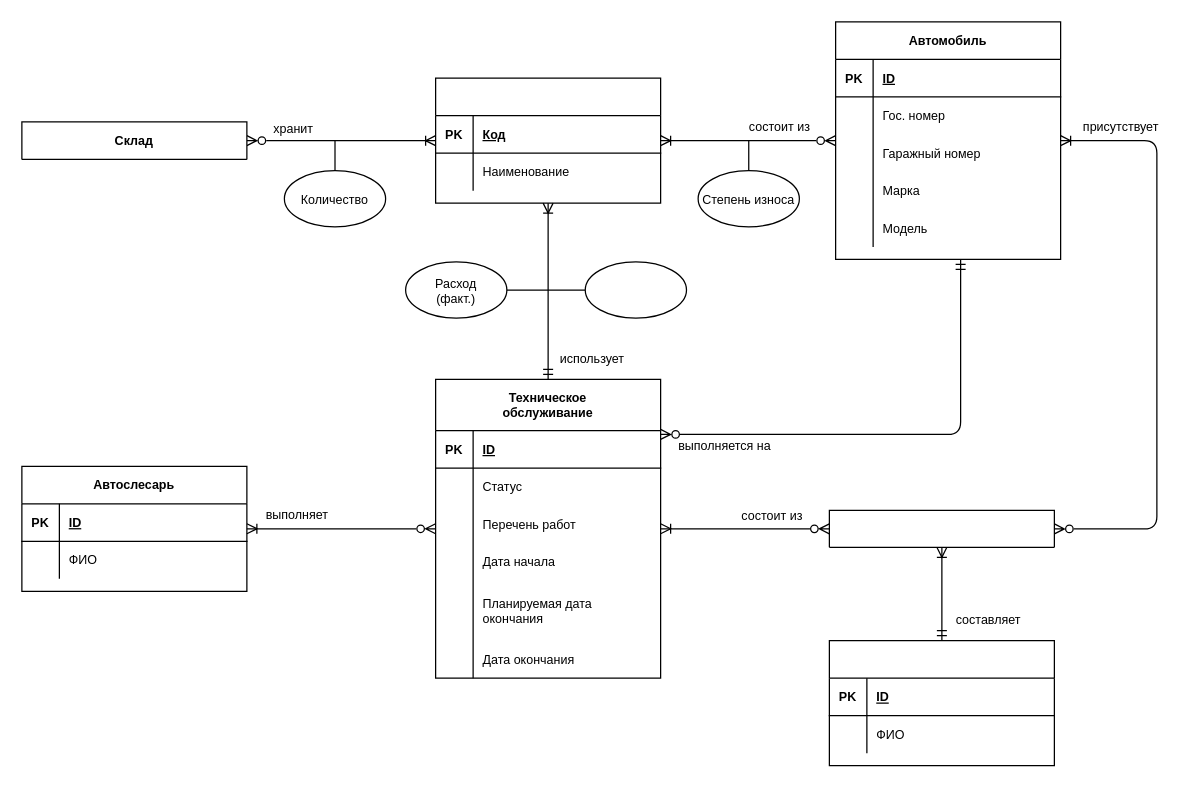
The diagram is 1190 pixels wide and 788 high, and some of its shapes have lost their labels. Each missing label, with the box of its shape:
График прохождения ТО: (828, 509, 1054, 547)
Материал: (434, 77, 661, 203)
Расход (теор.): (584, 261, 686, 318)
Старший техник: (828, 639, 1054, 766)
